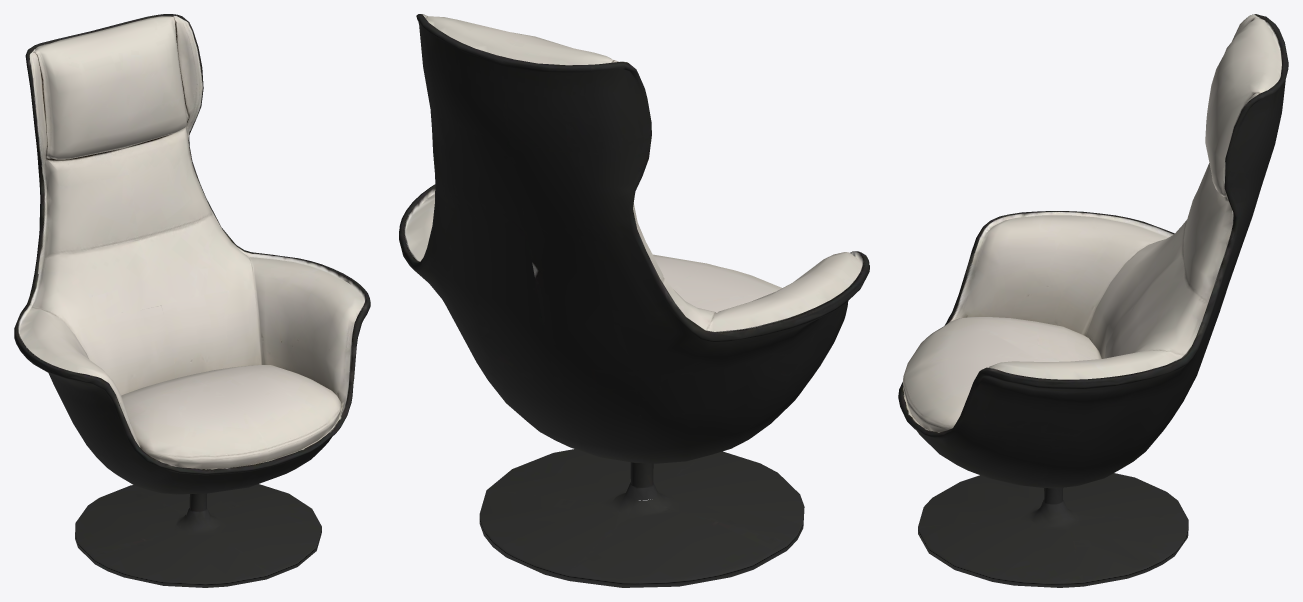
Rendered from lounge_swivel_chair.glb.
3 renders of one model, left to right at view 1: azimuth 30°, elevation 25°; view 2: azimuth 150°, elevation 25°; view 3: azimuth 270°, elevation 25°, orthographic. The views are drawn at different scales.
Visible parts, largest first — view 1: TesanaFacingY180; view 2: TesanaFacingY180; view 3: TesanaFacingY180.
Part boxes in pixels (box(x1,y1,x2,y2)): TesanaFacingY180: box(14, 14, 370, 587); TesanaFacingY180: box(399, 14, 869, 587); TesanaFacingY180: box(898, 14, 1288, 587).
Bounding box in the file's own units: 0.7733 × 1 × 0.742.
1 material, 1 textured.
